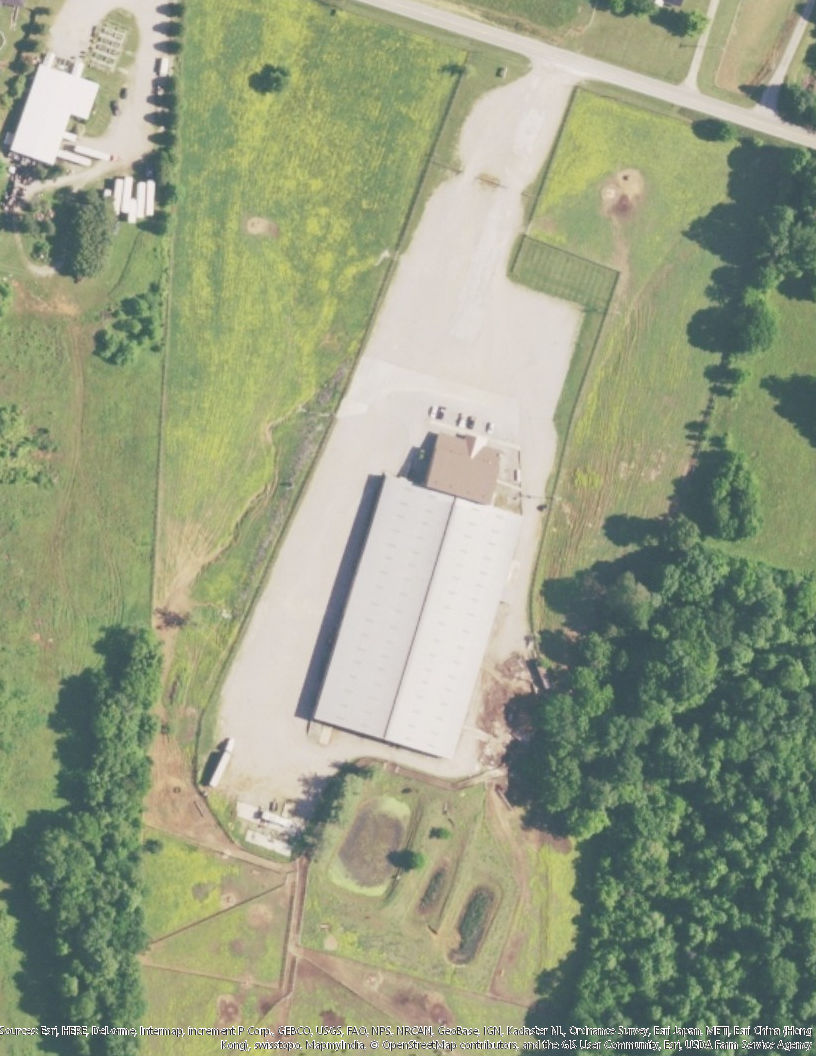cafo: (305, 400, 529, 770)
